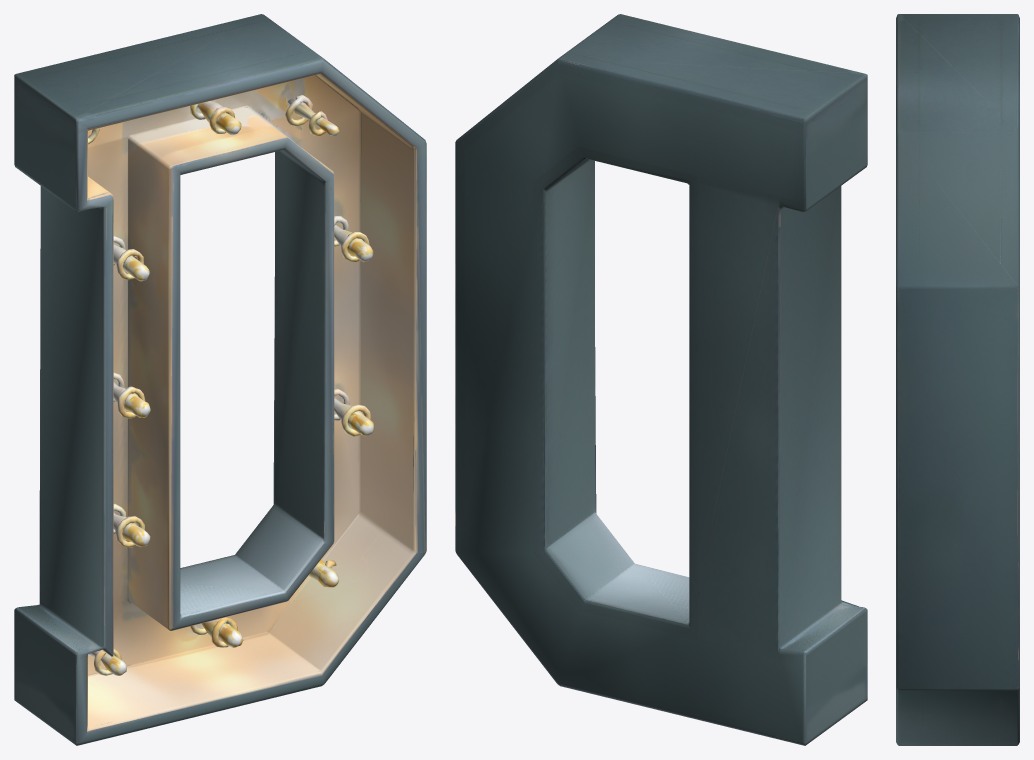
Rendered from Letter_D_0603000533_texture.glb.
The picture shows the model from 3 angles, left to right: view 1: azimuth 30°, elevation 25°; view 2: azimuth 150°, elevation 25°; view 3: azimuth 270°, elevation 25°; orthographic projection. The views are drawn at different scales.
Parts seen in each view (by area): view 1: Mesh_0.002; view 2: Mesh_0.002; view 3: Mesh_0.002.
Boxes of the visible parts, <box> form: Mesh_0.002: <box>14,14,426,745</box>; Mesh_0.002: <box>455,14,867,745</box>; Mesh_0.002: <box>896,14,1019,745</box>.
Size of the model in its own units: 0.5349 by 0.914 by 0.167.
Materials: 1 (1 with a texture image).
